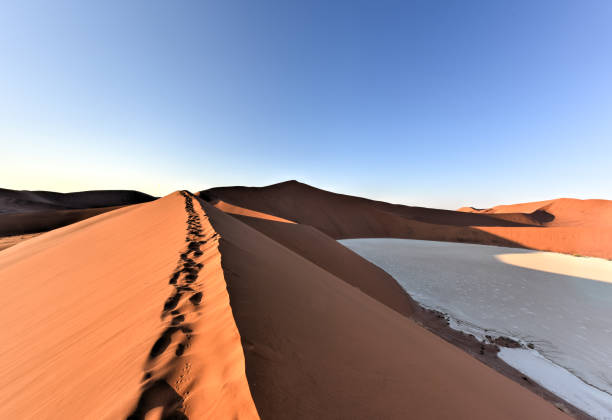human_footprint: (141, 194, 207, 405)
